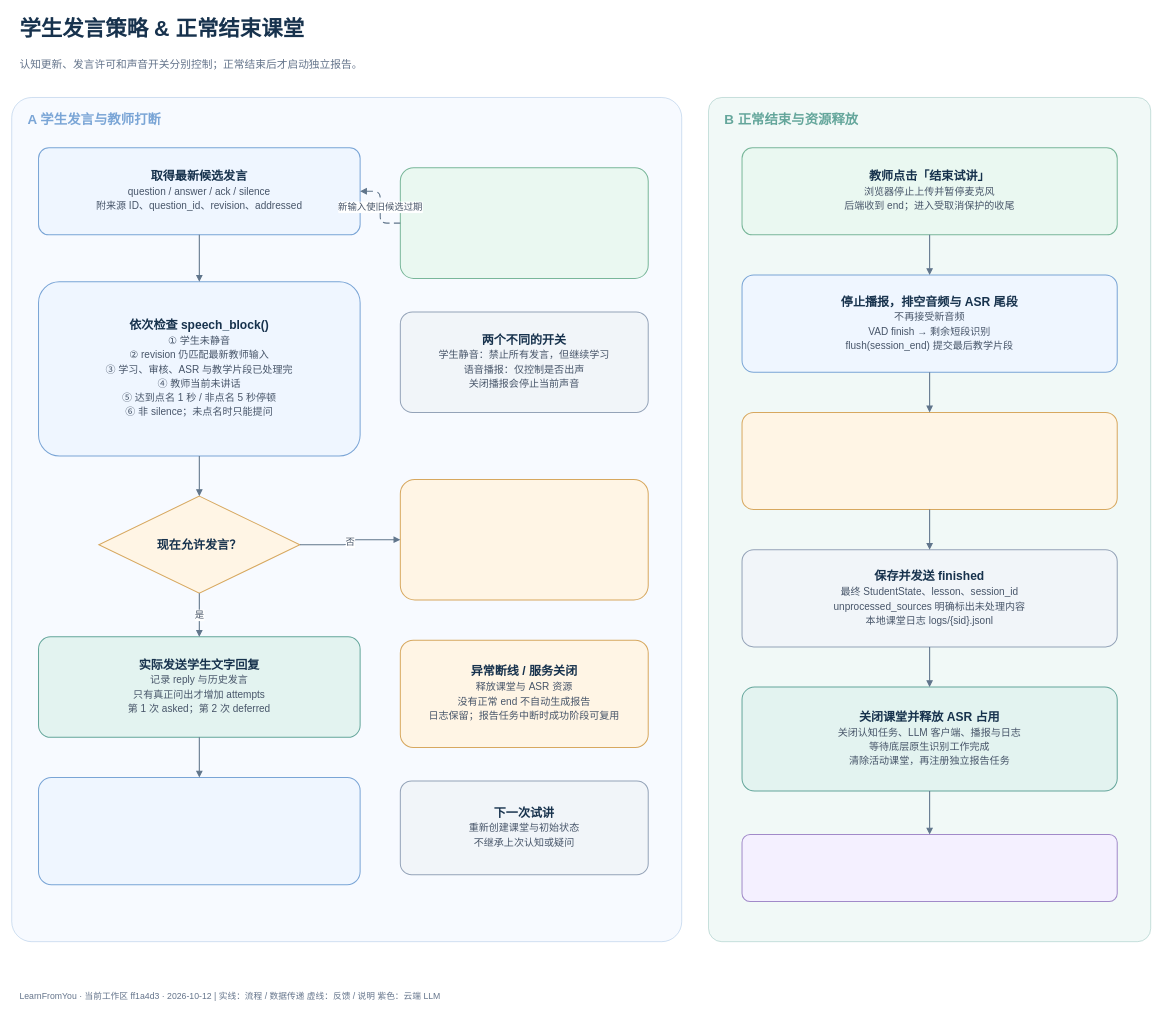
This 1162x1017 diagram has some shape labels left out. Each missing label, with the centre of its shape:
"启动课后报告服务 浏览器正常结束后关闭，不取消已启动报告 报告详细生成路径见第 05 页" goes at point 929,868.
"教师出现新语音 / 新文字 撤销旧候选；停止当前播报 新的内容回到输入 → 学习链路 教师继续讲授 / 解释 / 回答学生疑问" goes at point 524,223.
"暂时阻止 / 撤销候选 忙碌、教师讲话、停顿不足：等待 静音、过期、silence 或未点名的回答：丢弃 后台认知继续更新，不补播静音期间旧问题" goes at point 524,539.
"等待审核与学习收尾 最长约 100 秒 若存在失败片段则停止等待 汇总尚未被学生处理的教师来源" goes at point 929,461.
"语音播报开关开启？ 开启：macOS say / Windows System.Speech 关闭或声音失败：文字回复仍可查看 本机默认音频设备播报，可手动停止" goes at point 199,831.
